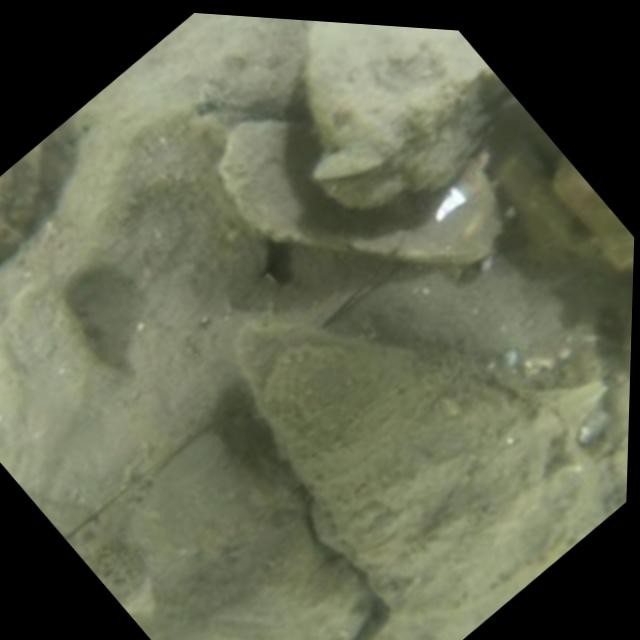Oyster-Closed: (245, 324, 589, 595)
Oyster-Indeterminate: (143, 439, 376, 640), (69, 14, 306, 204), (223, 119, 510, 265), (306, 21, 493, 201), (0, 278, 119, 433), (550, 157, 634, 271), (0, 139, 45, 247), (600, 377, 630, 513)
